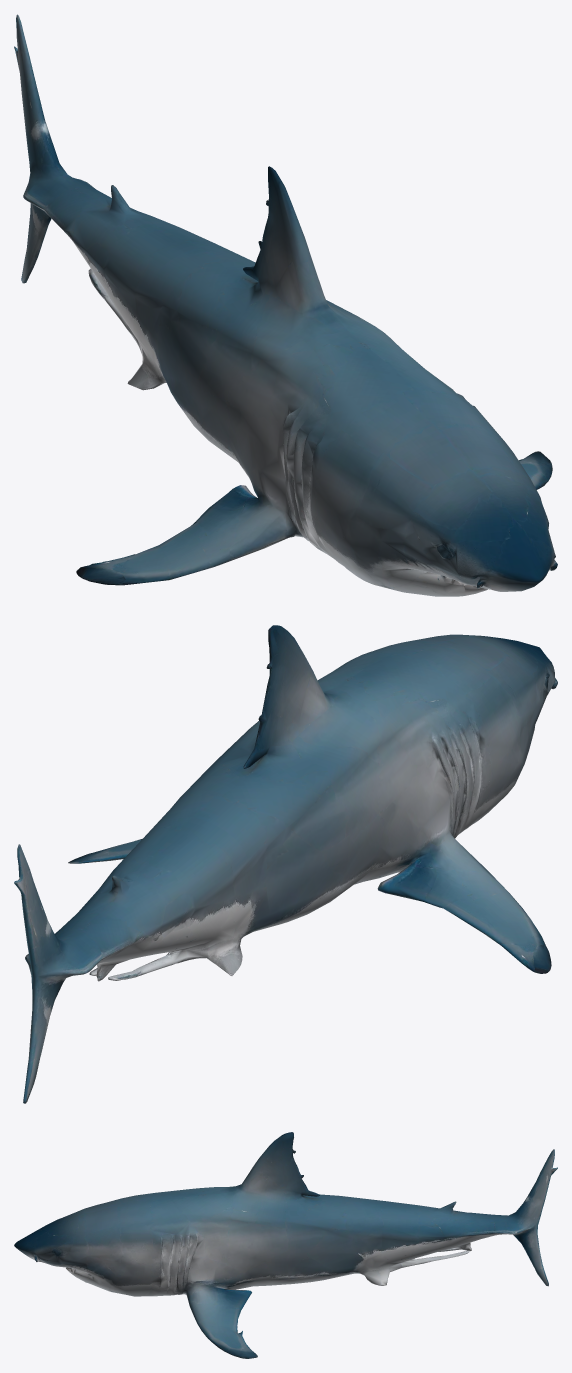
The model's file is white-shark.glb.
3 views of the same model, one above another, from view 1: azimuth 30°, elevation 25°; view 2: azimuth 150°, elevation 25°; view 3: azimuth 270°, elevation 25° (orthographic). The views are drawn at different scales.
Bounding box in the file's own units: 0.9834 × 0.642 × 1.89.
1 material, 1 textured.
